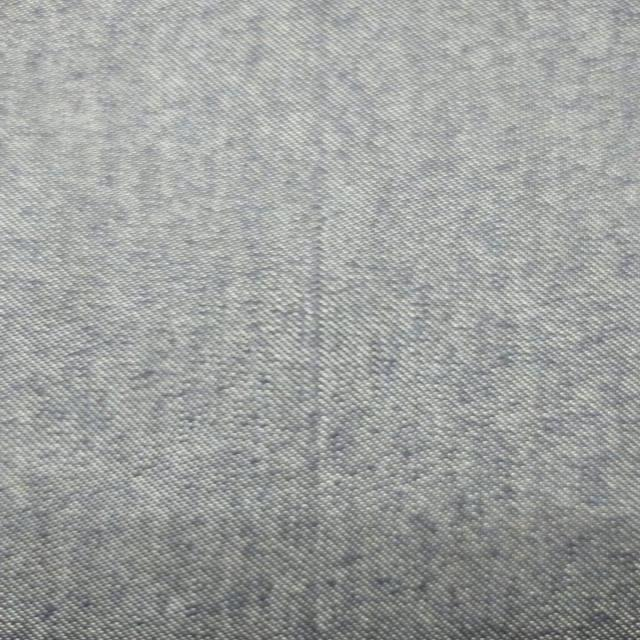Line: (302, 0, 326, 639)
